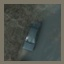car: (22, 20, 41, 50)
